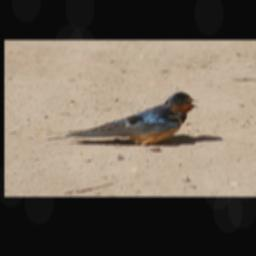Swallow: (47, 91, 198, 144)
